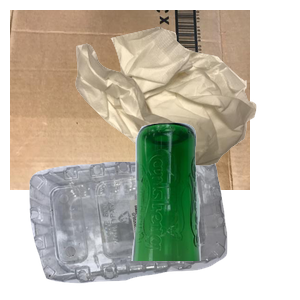cardboard: (10, 10, 250, 190)
glass: (129, 120, 300, 300)
plastic: (27, 152, 247, 300)
trash: (73, 25, 300, 183)
